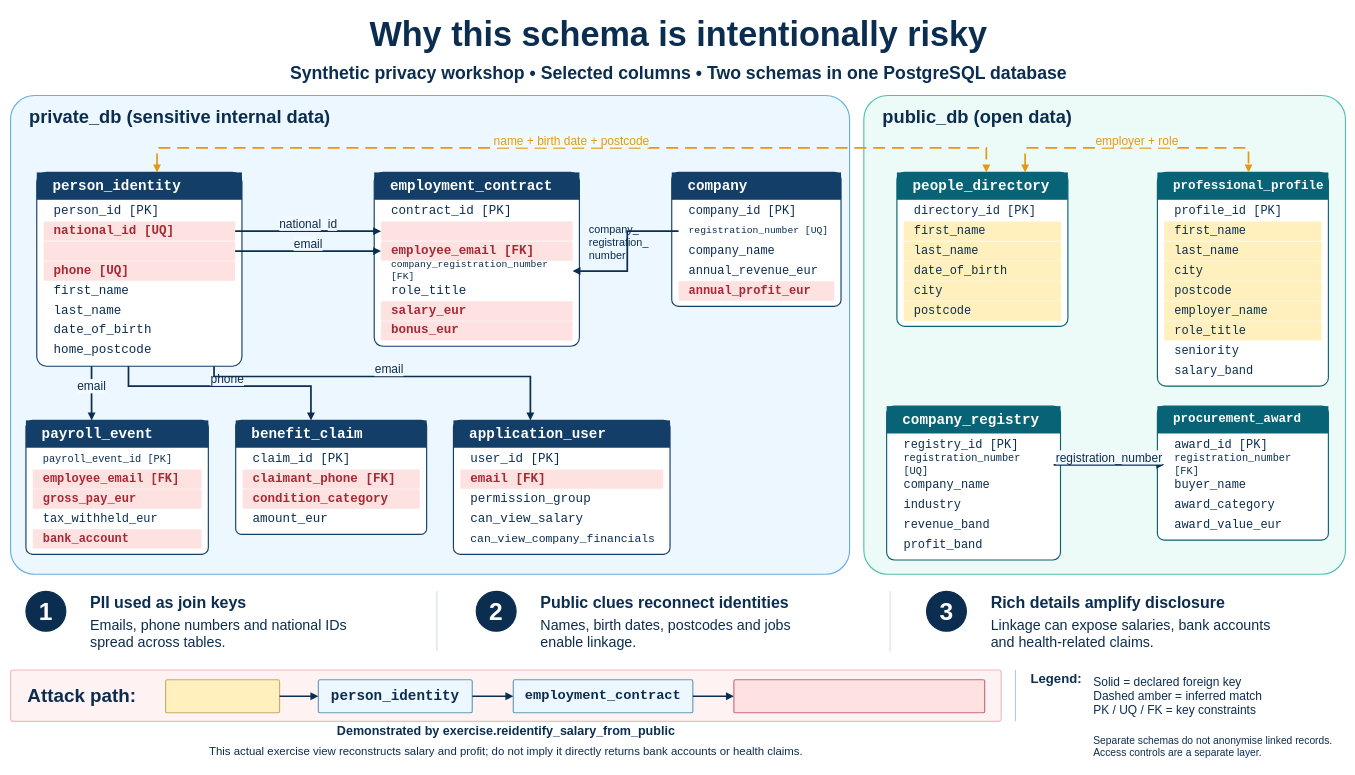
Image size: 1355x775. Some labels were removed from this diagram. The shapes that lost their labels are listed below. From the top down, each one's box as (x1, y1, x2, y2) in pixels, then its label:
(43, 241, 235, 260): email [UQ]
(381, 221, 572, 241): national_id [FK]
(165, 679, 280, 713): Public clues
(733, 679, 985, 713): salary_eur + company profit
